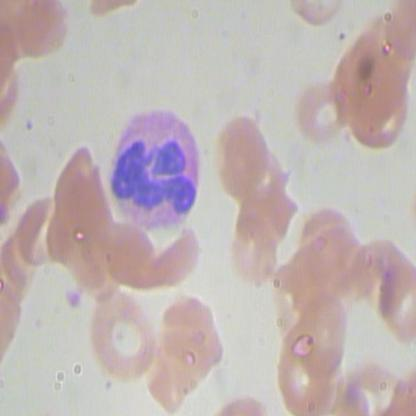Platelets: (63, 283, 84, 316)
RBC: (79, 280, 157, 381), (217, 190, 293, 292), (292, 197, 368, 299), (150, 289, 225, 389), (340, 60, 414, 151), (211, 100, 272, 205), (43, 134, 104, 239), (293, 285, 352, 383), (278, 315, 337, 413), (291, 79, 357, 146), (370, 251, 415, 349)
WBC: (98, 102, 214, 242)
